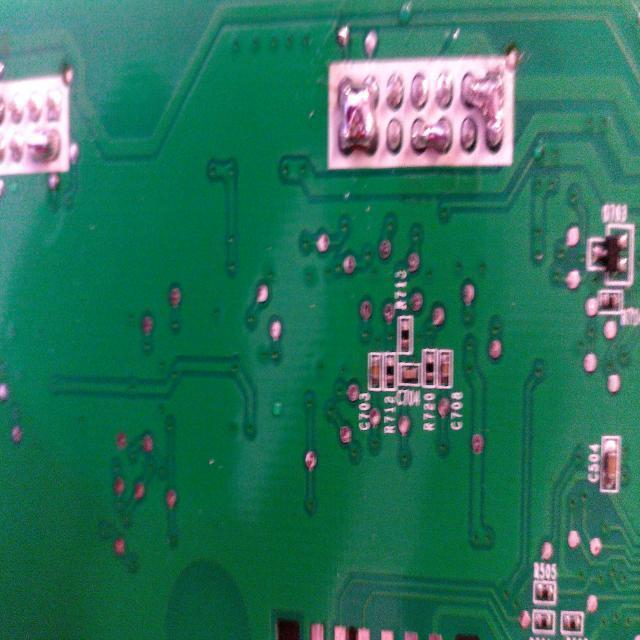Soldering shorted: (460, 68, 506, 150), (336, 75, 380, 157), (410, 111, 452, 156), (21, 125, 67, 166)
